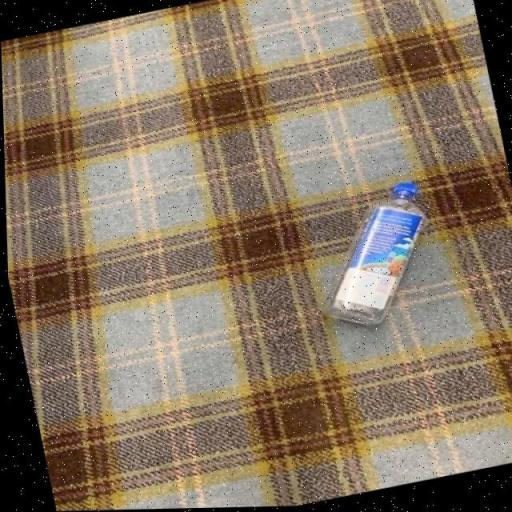plastic: (322, 184, 422, 328)
